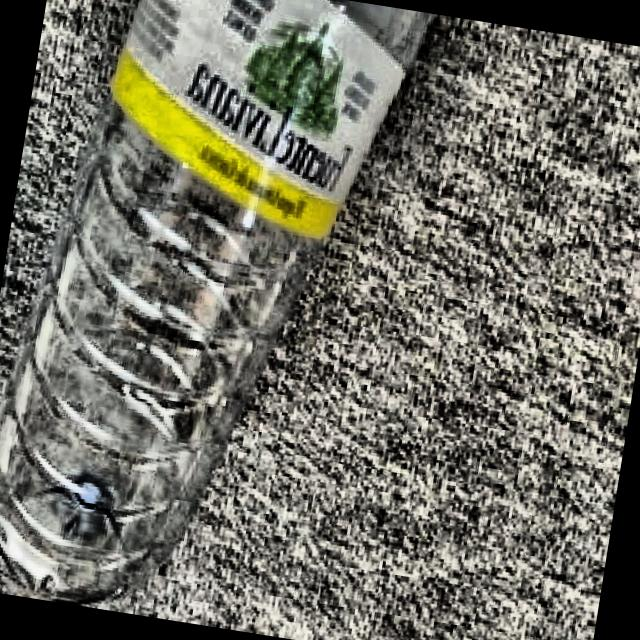plastic bottle: (0, 0, 439, 609)
